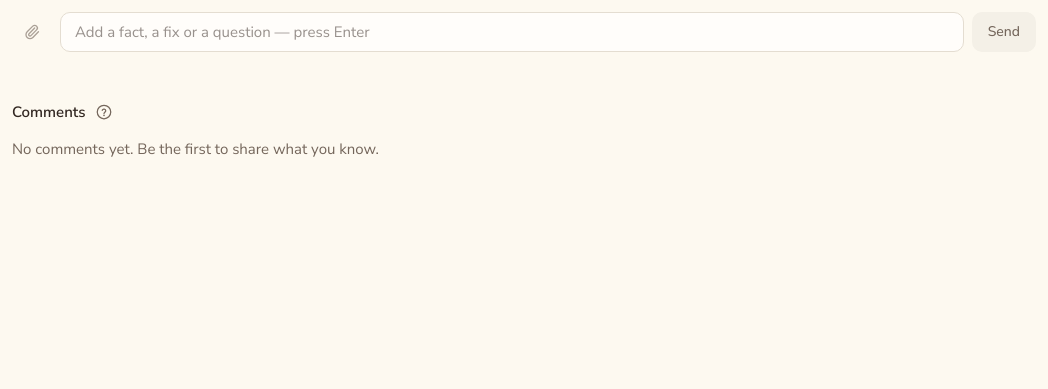
Test: CommunitySection — How comments work › says what happens to a note by default
The image size is (1048, 389).
Click the button named "How comments work" at (104, 112), box [92,100,116,124]
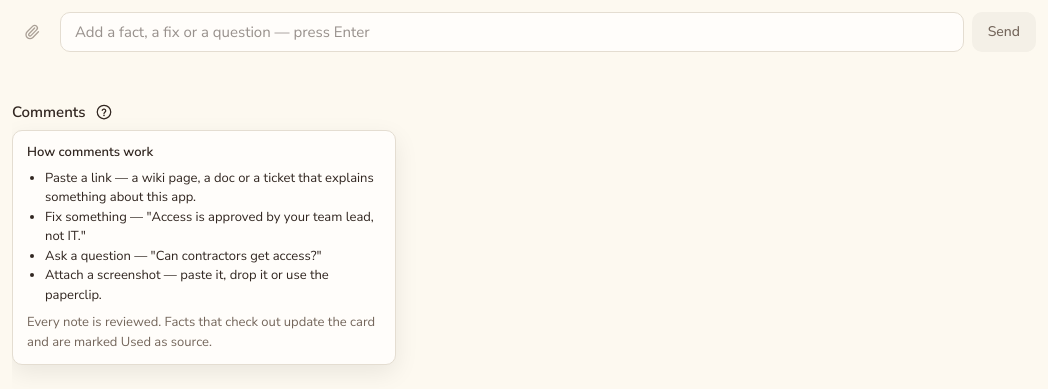
Check: the text "Every note is reviewed. Facts that check out update the card and are marked Used as source." is shown, box [27,313,375,350]
